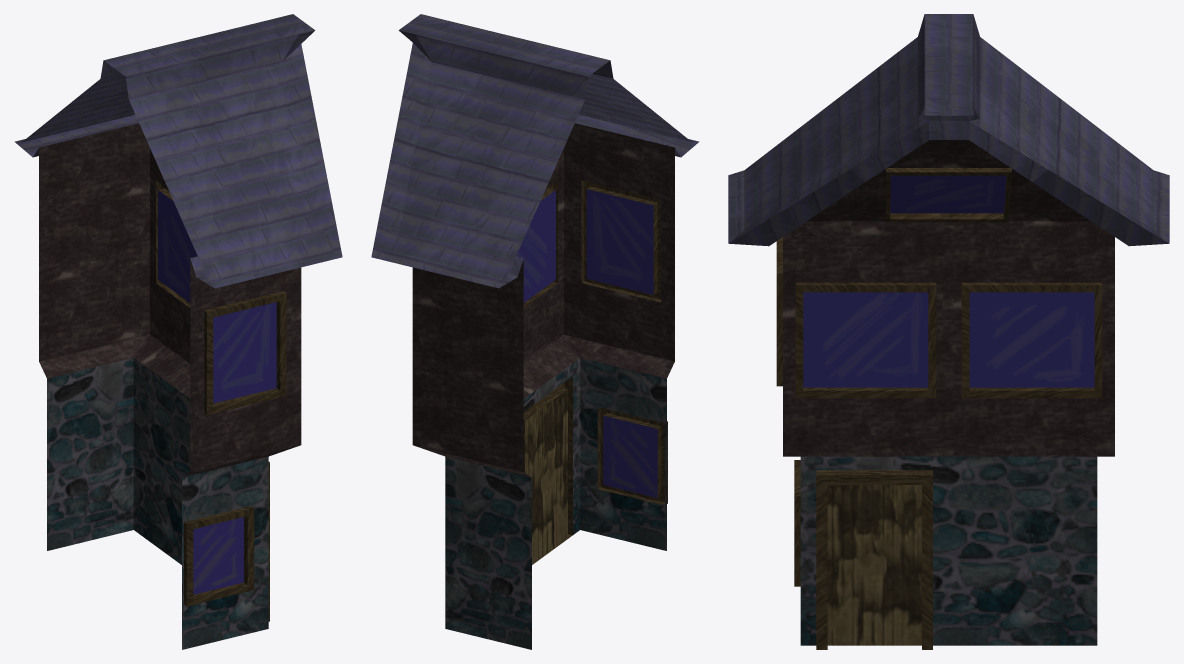
File: HouseTurnedScaled.fbx
The picture shows the model from 3 angles, left to right: view 1: azimuth 30°, elevation 25°; view 2: azimuth 150°, elevation 25°; view 3: azimuth 270°, elevation 25°; orthographic projection. The views are drawn at different scales.
Parts seen in each view (by area): view 1: Cube.001; view 2: Cube.001; view 3: Cube.001.
Boxes of the visible parts, box(x1,y1,x2,y2) form: Cube.001: box(14, 14, 342, 649); Cube.001: box(371, 14, 699, 649); Cube.001: box(728, 14, 1169, 649).
Bounding box in the file's own units: 649 × 1739 × 1188.
Materials: 5 (5 with a texture image).
